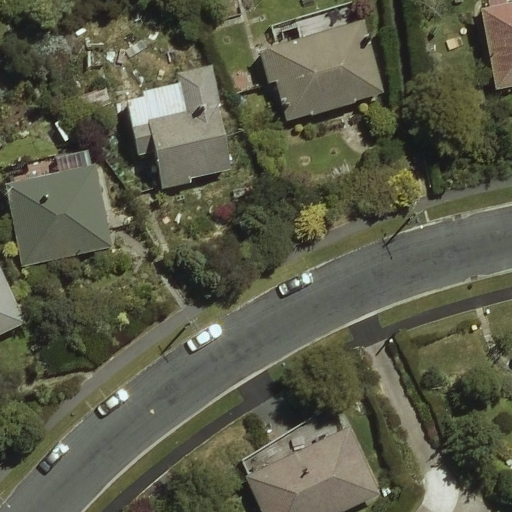DT: (401, 198, 430, 237), (179, 314, 204, 345)
